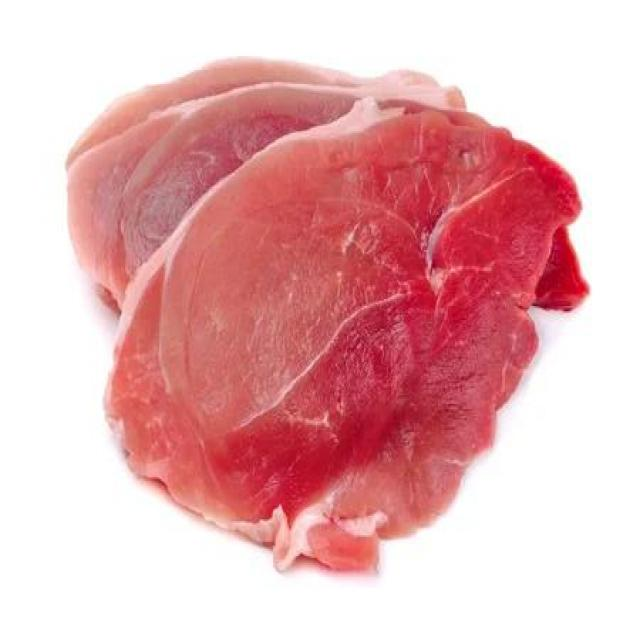pork: (112, 126, 547, 516)
